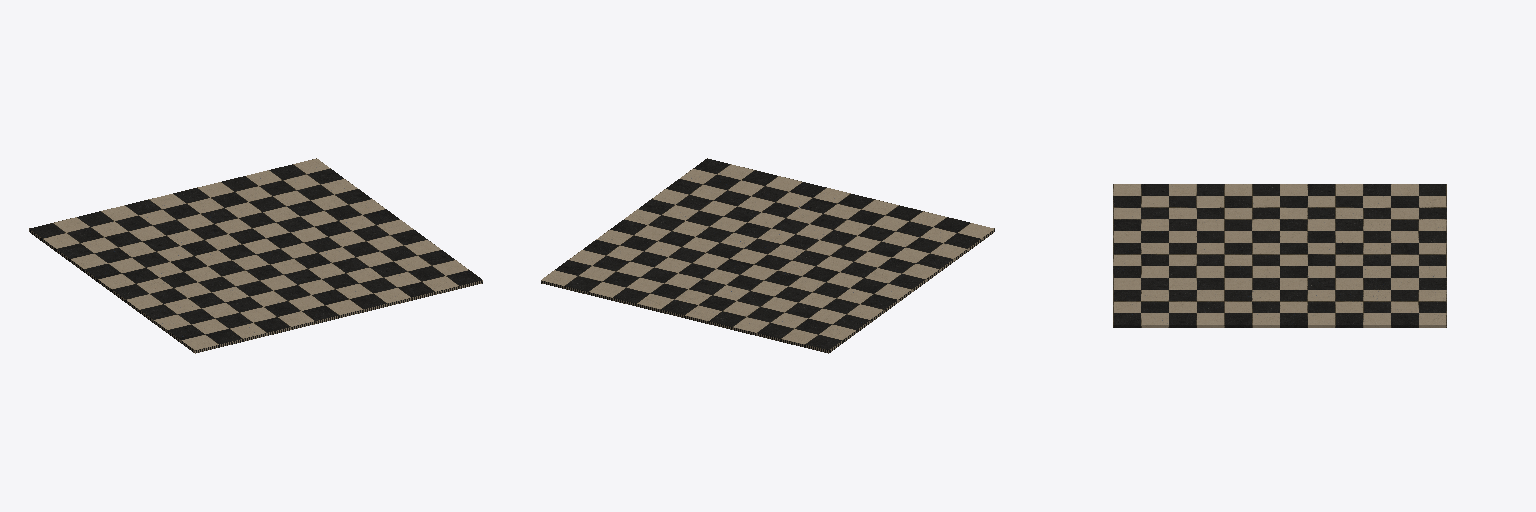
The picture shows the model from 3 angles: view 1: azimuth 30°, elevation 25°; view 2: azimuth 150°, elevation 25°; view 3: azimuth 270°, elevation 25°; orthographic projection.
Parts seen in each view (by area): view 1: Cube_Cube.001; view 2: Cube_Cube.001; view 3: Cube_Cube.001.
Boxes of the visible parts, box(x1,y1,x2,y2) form: Cube_Cube.001: box(29, 158, 482, 353); Cube_Cube.001: box(541, 158, 994, 353); Cube_Cube.001: box(1113, 184, 1446, 327).
Size of the model in its own units: 20 by 0.2 by 20.
1 materials, 1 textured.